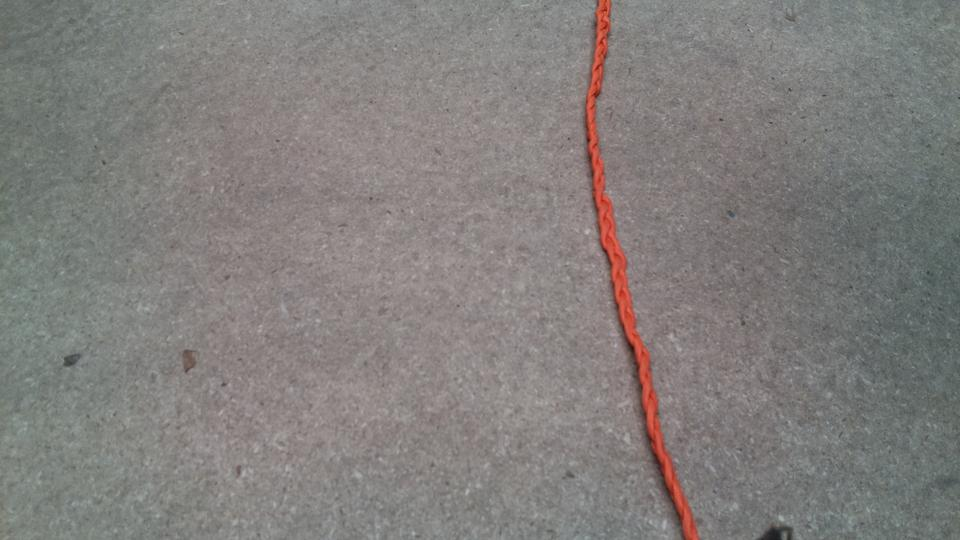rope: (581, 1, 710, 539)
